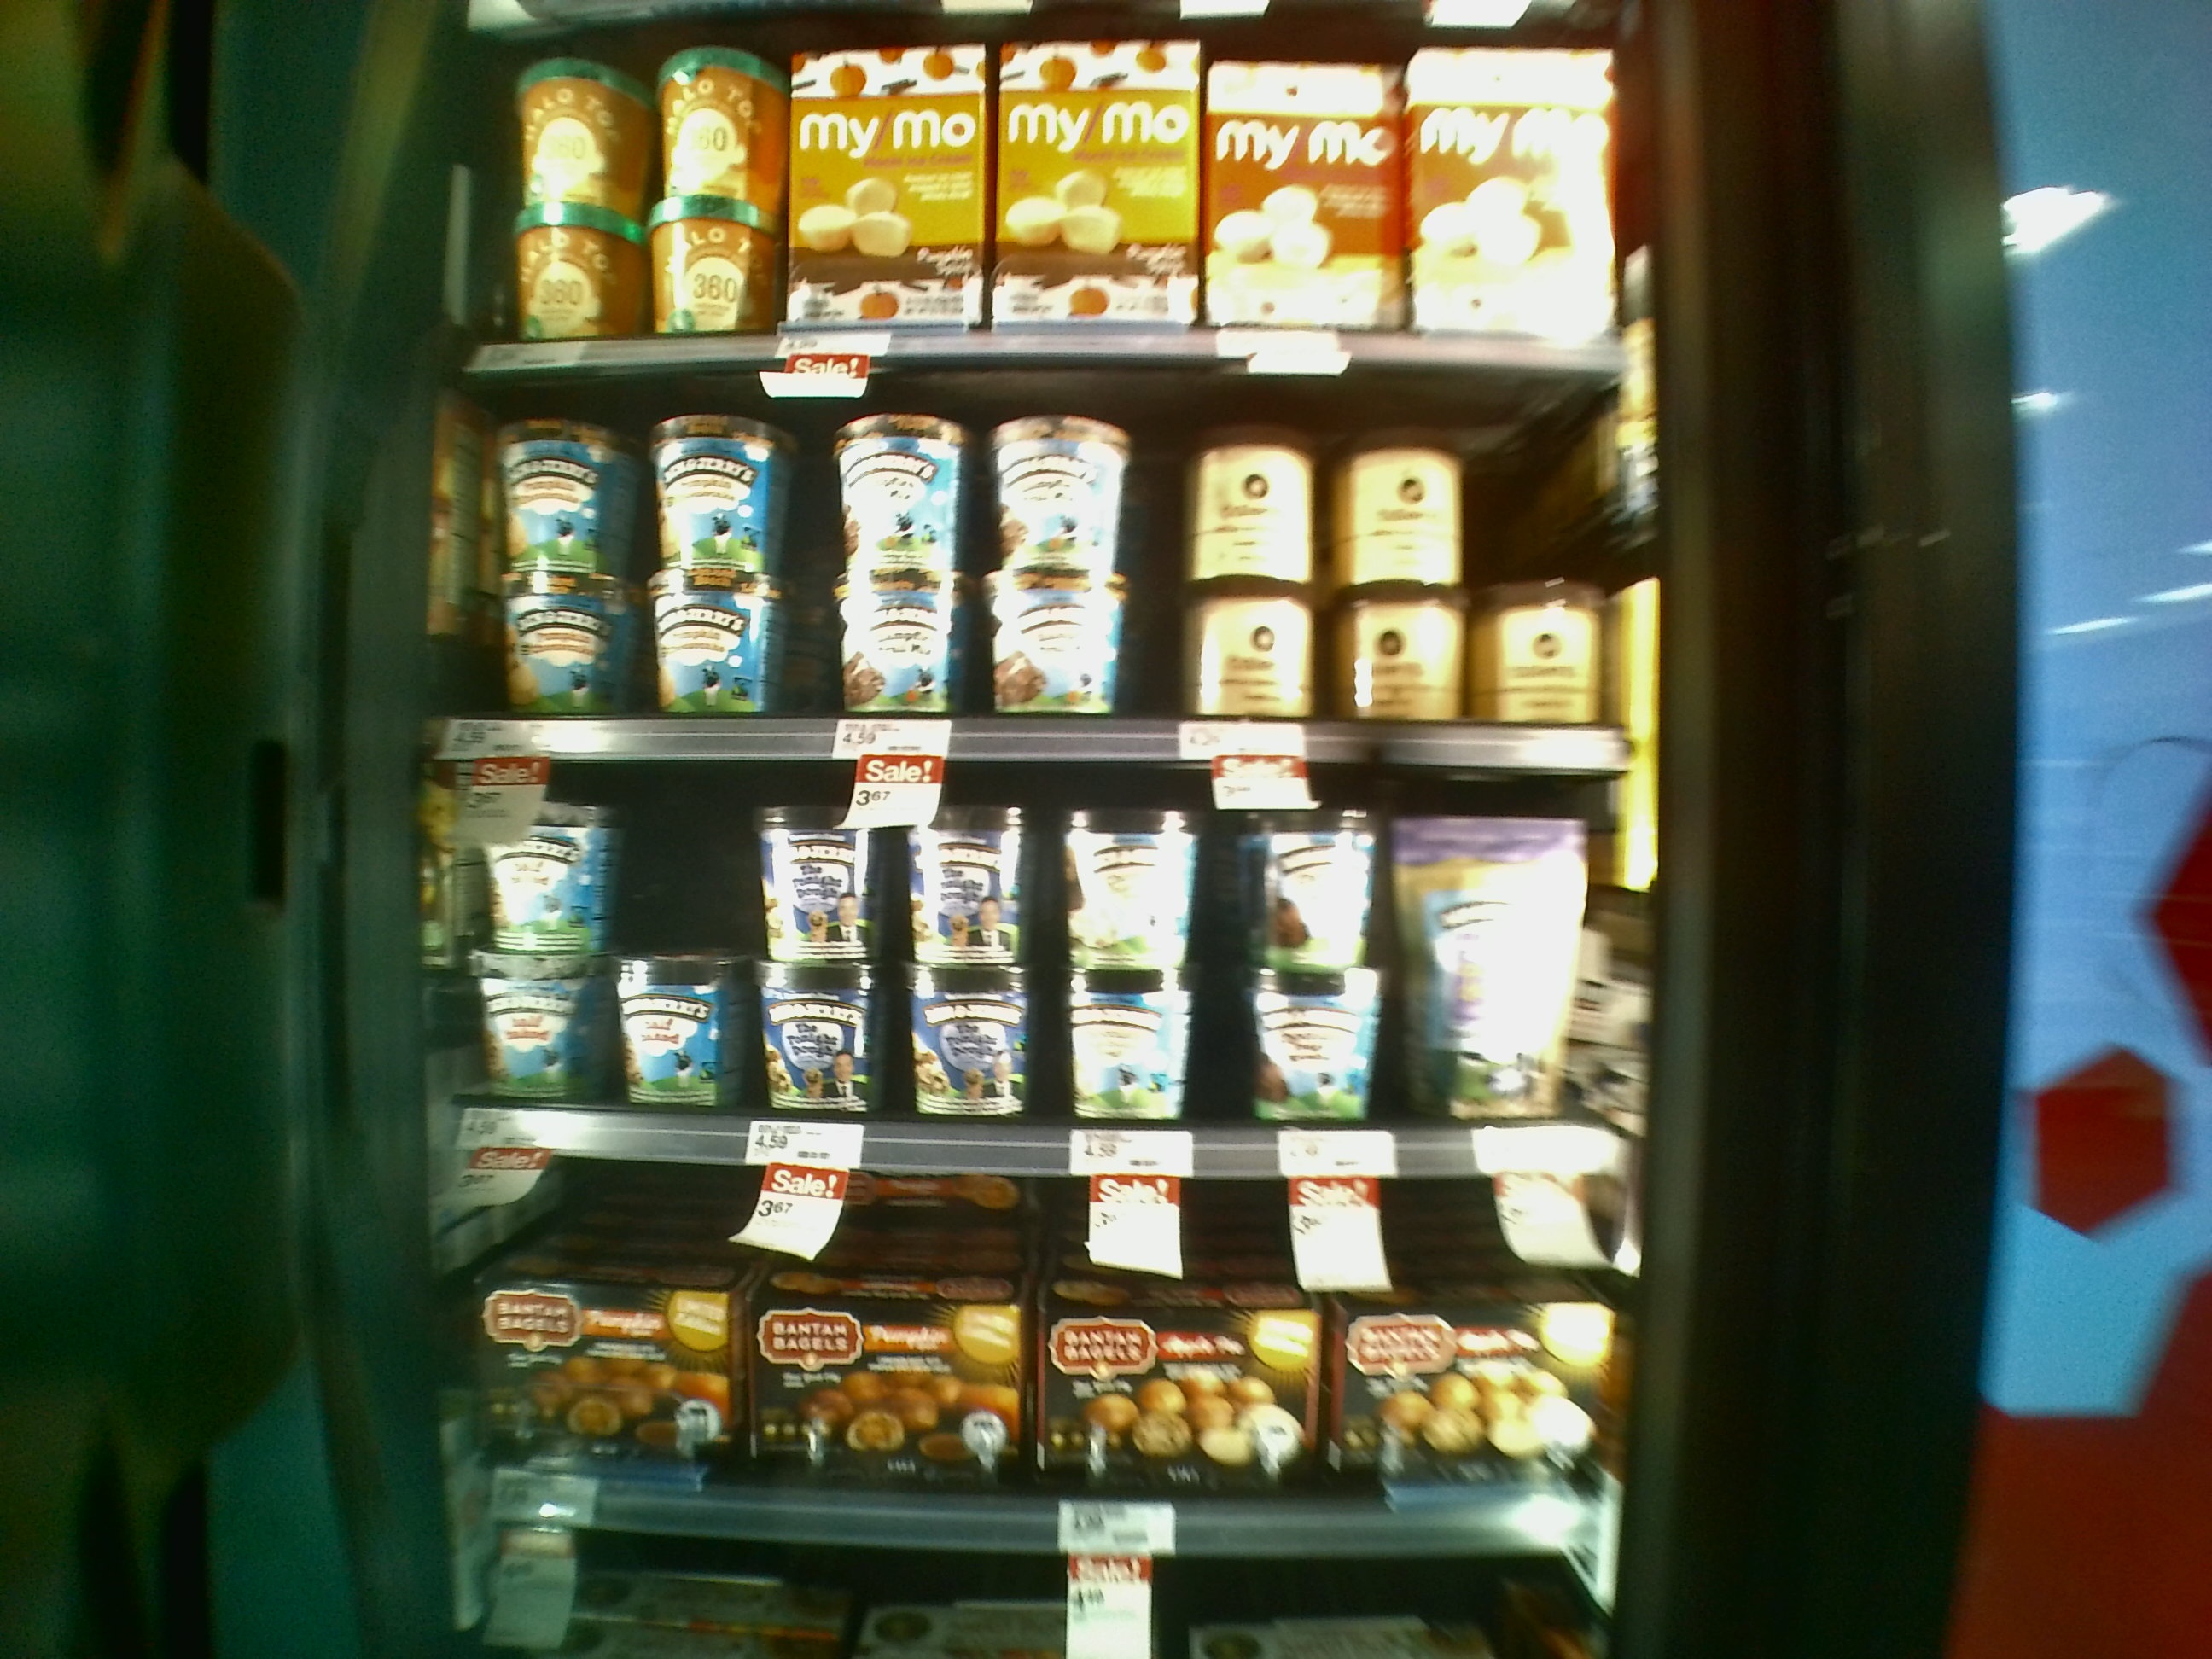shelf: (409, 718, 1620, 1161), (415, 338, 1630, 774), (399, 1129, 1602, 1554)
